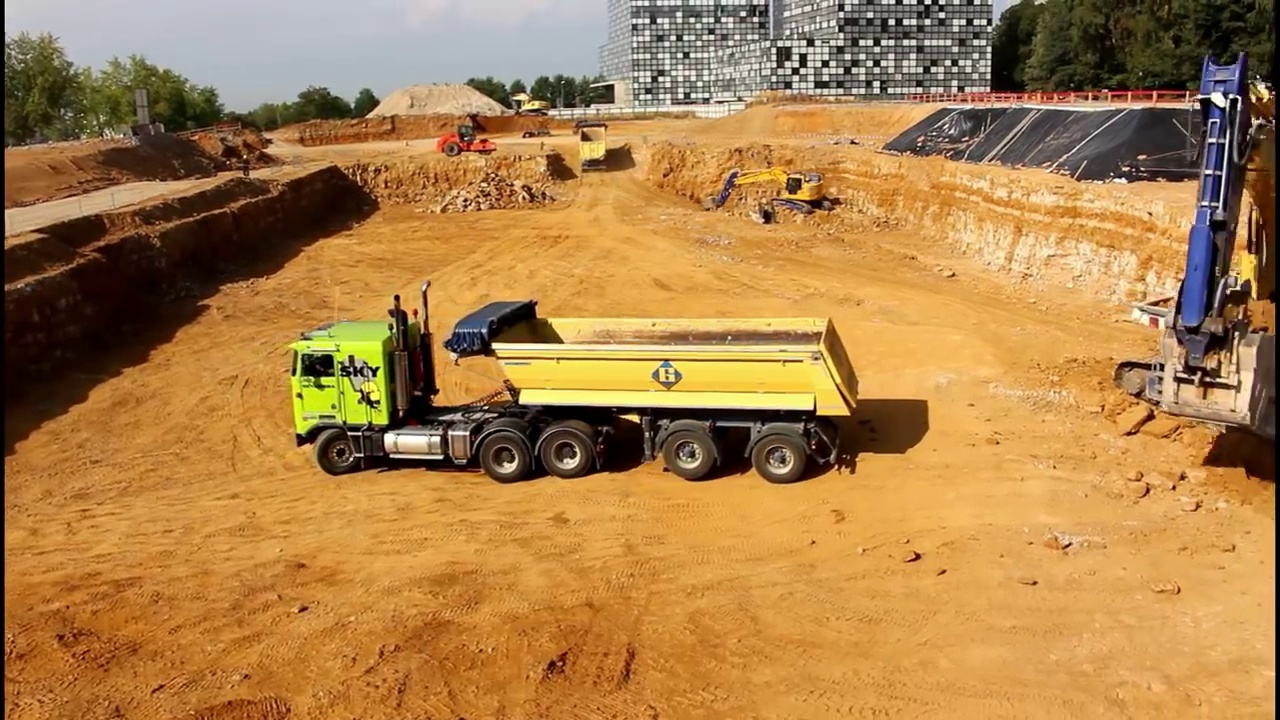compactor: (436, 126, 499, 159)
excavator: (1123, 45, 1280, 437), (706, 165, 842, 221), (506, 82, 554, 120)
truck: (283, 275, 868, 493), (573, 114, 616, 178)
